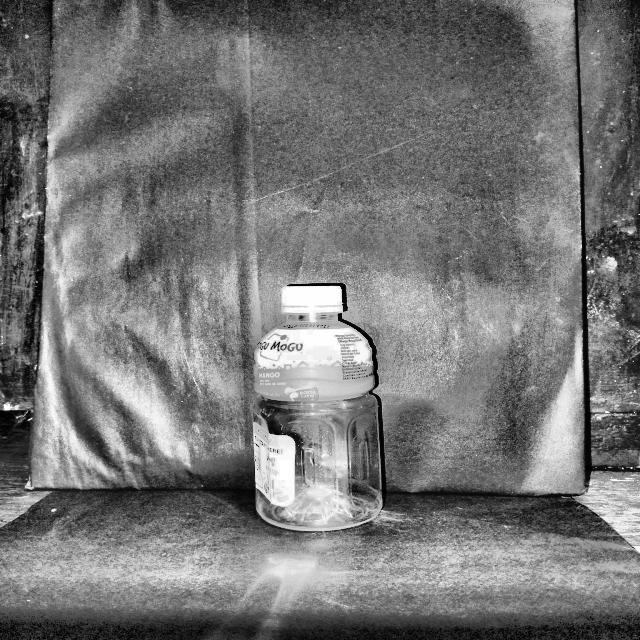Plastic-Bottle: (248, 282, 391, 532)
